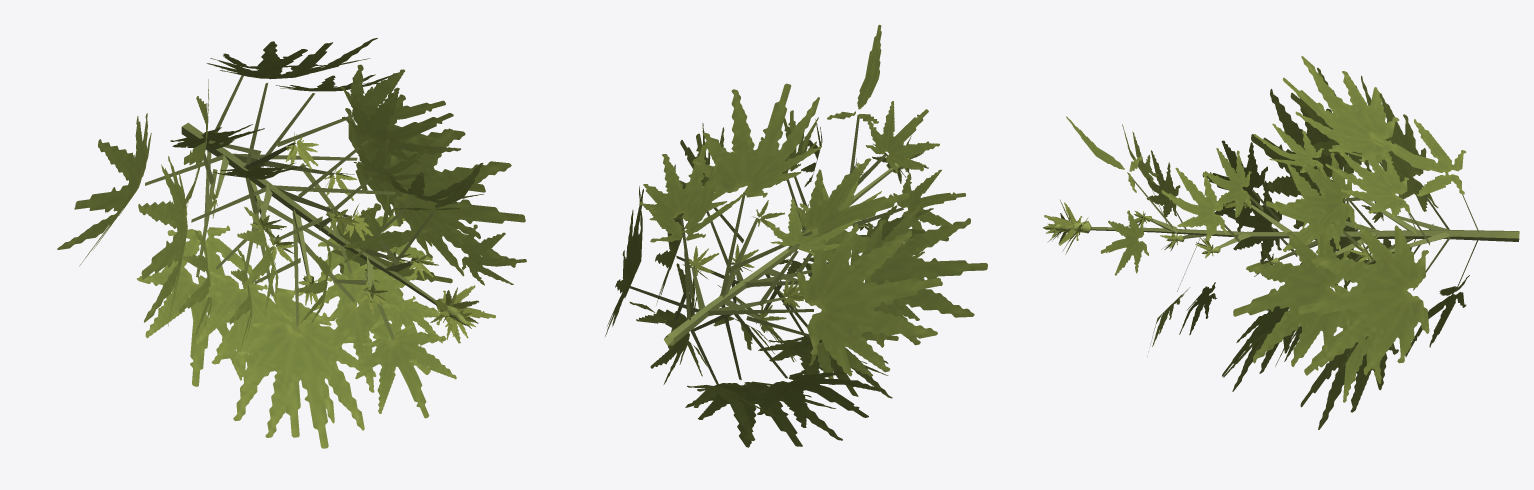
The model's file is p_landrace_preflower_c1_cards.obj.
3 views of the same model, side by side, from view 1: azimuth 30°, elevation 25°; view 2: azimuth 150°, elevation 25°; view 3: azimuth 270°, elevation 25° (orthographic). The views are drawn at different scales.
Bounding box in the file's own units: 1.52 × 1.5 × 1.6.
1 material, 1 textured.
